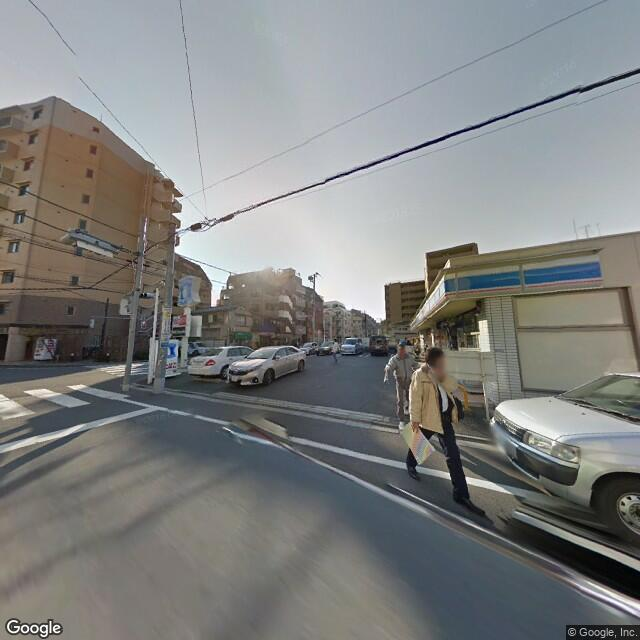lawson: (409, 246, 613, 334), (172, 273, 201, 317), (160, 336, 180, 367)
